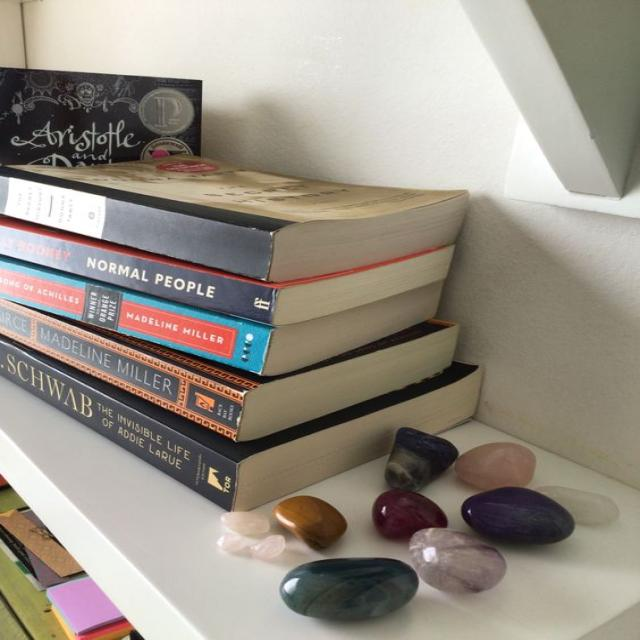book: (0, 340, 240, 514), (1, 298, 246, 436), (1, 262, 272, 372), (0, 173, 275, 279), (1, 226, 280, 322)
